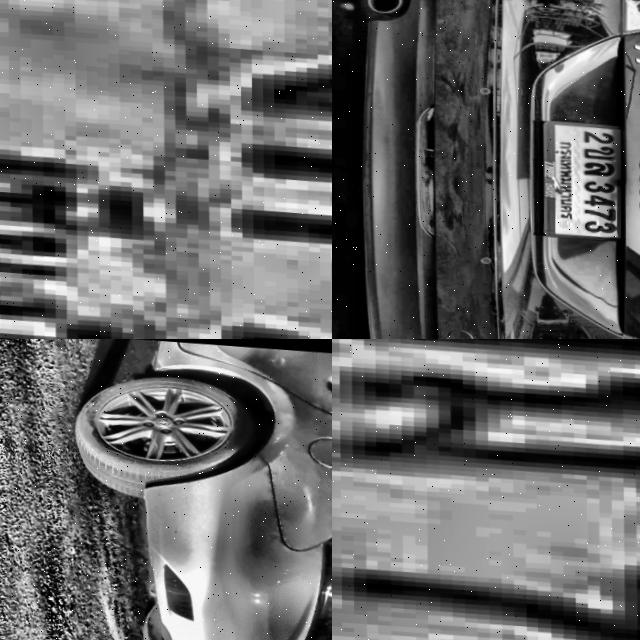license-plate: (0, 0, 332, 339), (332, 339, 640, 640), (538, 112, 634, 238)
